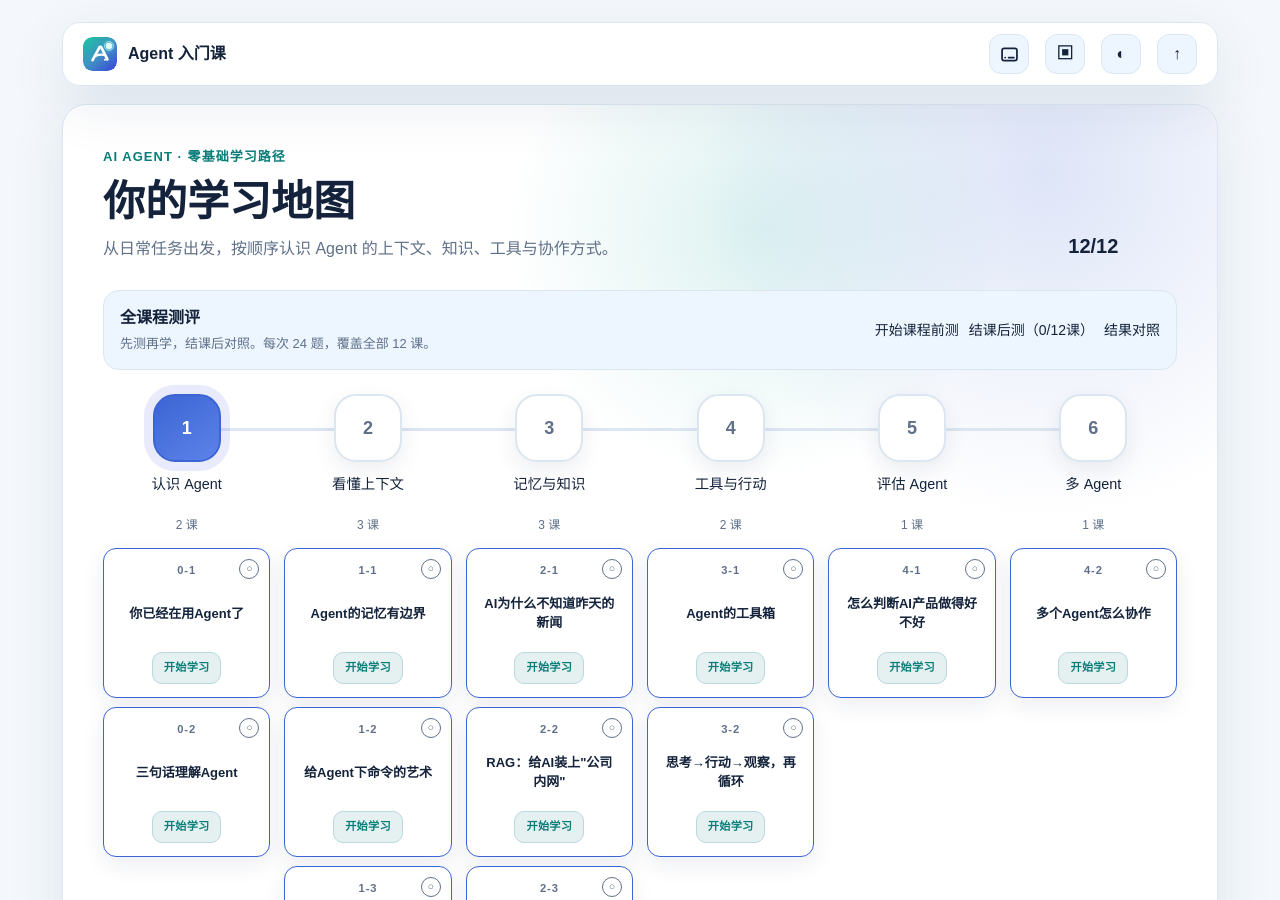
App routes and global learning profile › keeps the global navigation sticky-ready while allowing people to collapse and reopen it
Click the button named "收起顶部导航" at (1177, 54), box [1157, 34, 1197, 74]
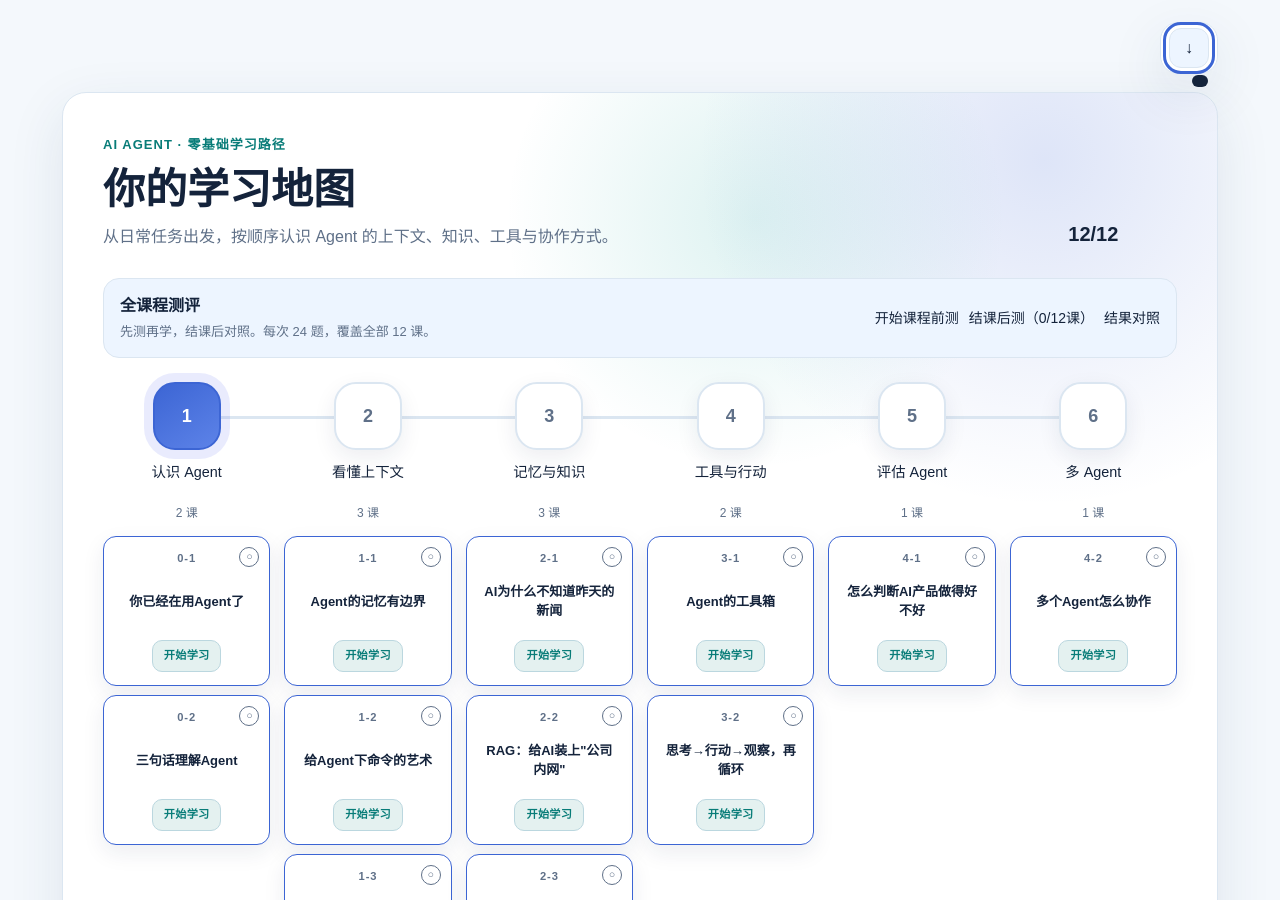
Check: the button named "展开顶部导航" is collapsed
Click the button named "展开顶部导航" at (1189, 48), box [1169, 28, 1209, 68]
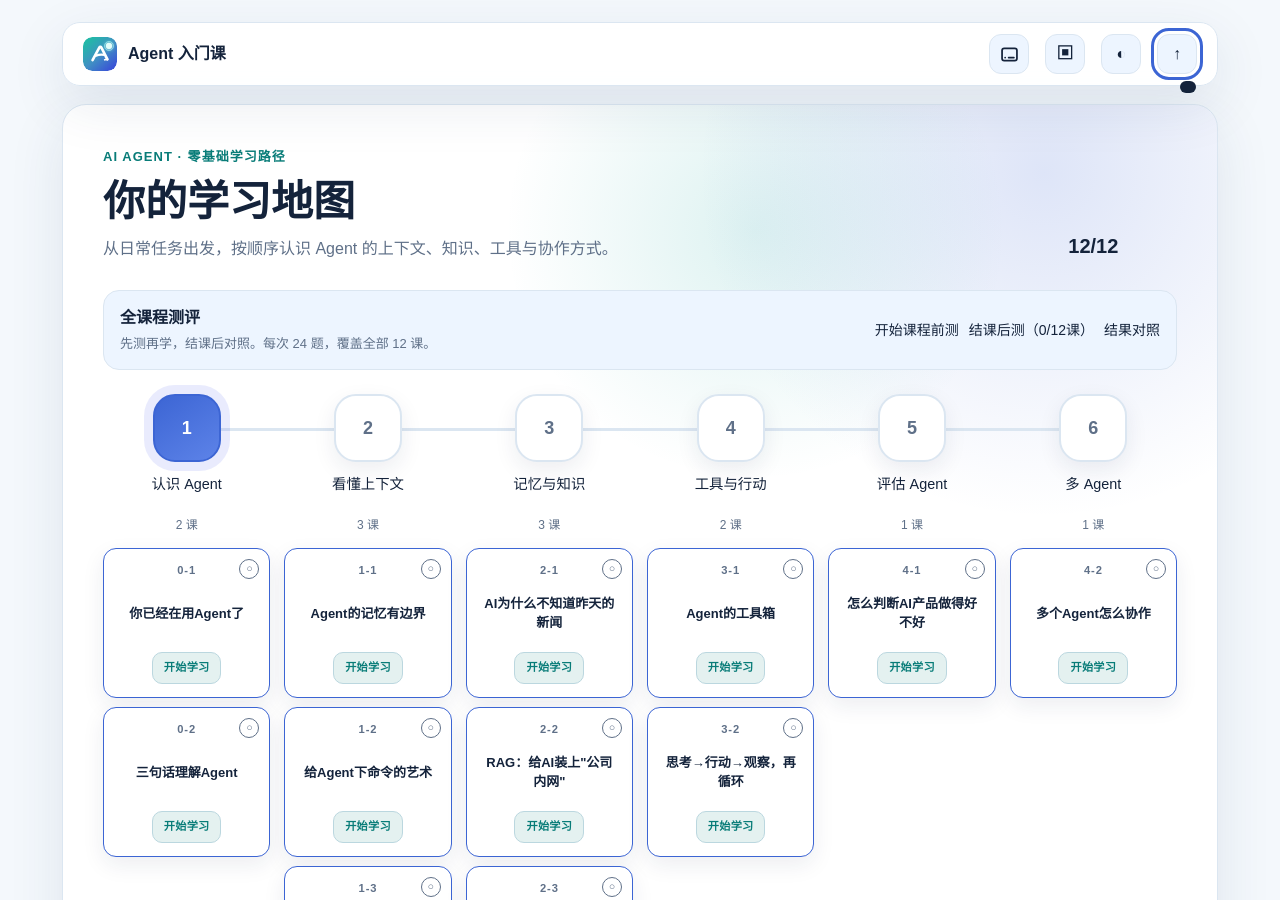
Check: the button named "收起顶部导航" is expanded, box [1157, 34, 1197, 74]
